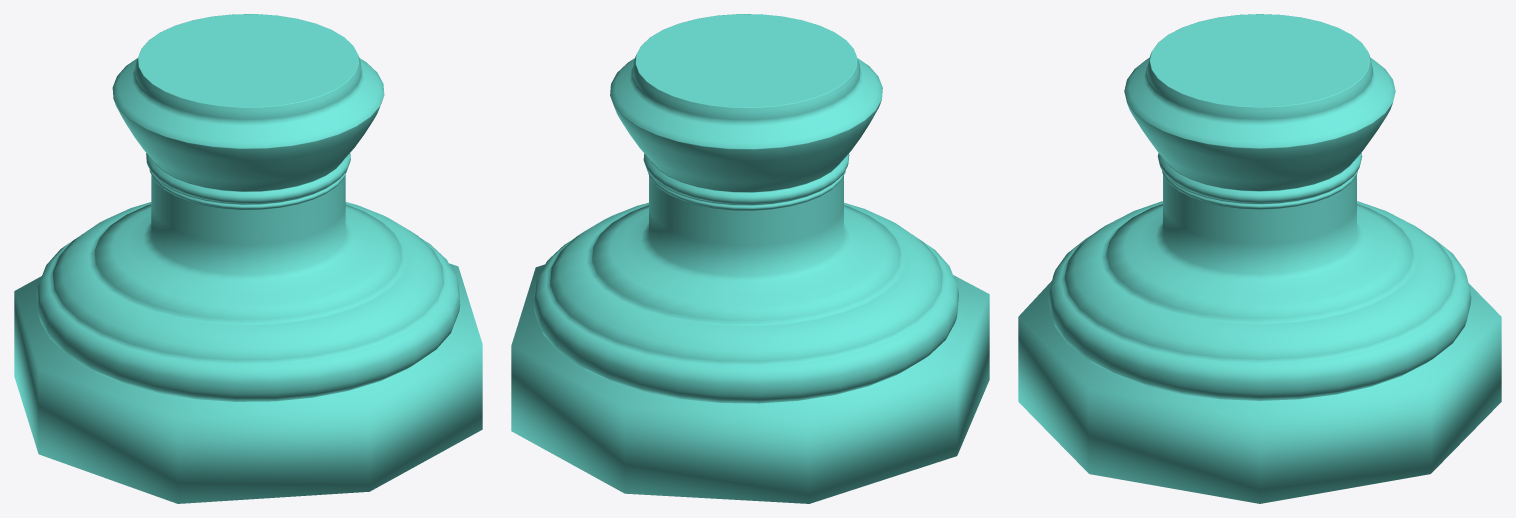
Rendered from S_Column_low.fbx.
The picture shows the model from 3 angles, left to right: view 1: azimuth 30°, elevation 25°; view 2: azimuth 150°, elevation 25°; view 3: azimuth 270°, elevation 25°; orthographic projection.
Parts seen in each view (by area): view 1: S_Column_low; view 2: S_Column_low; view 3: S_Column_low.
Part boxes in pixels (x1=…): S_Column_low: x1=14, y1=14, x2=482, y2=503; S_Column_low: x1=511, y1=14, x2=989, y2=503; S_Column_low: x1=1018, y1=14, x2=1501, y2=503.
Bounding box in the file's own units: 128 × 99.99 × 128.
